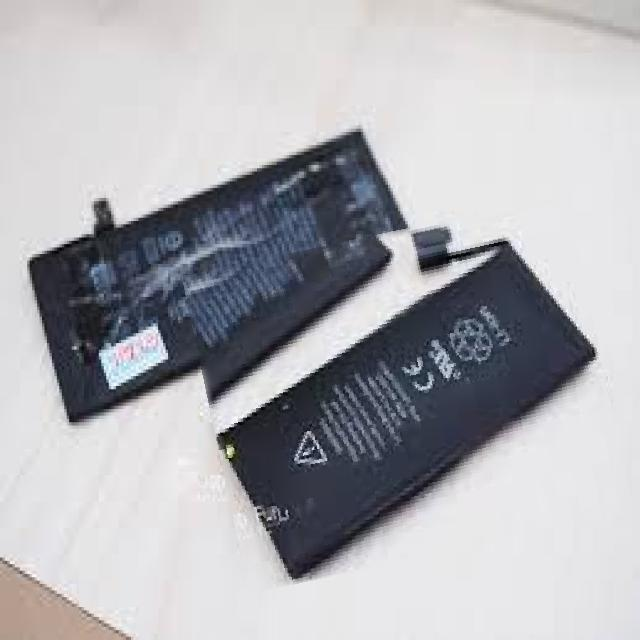Battery: (212, 233, 601, 579), (18, 120, 426, 427)
